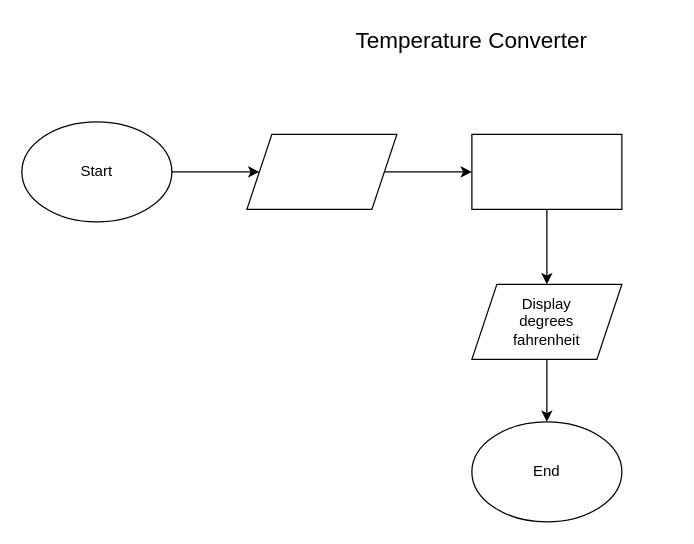
Some shapes in this 694 by 544 pixel diagram are drawn without their labels. The shapes that lost their labels are listed below. From the top down, each one's centre as x and y in pixels, then its label:
At (321,171): "Input degrees celsius".
At (546,171): "Multiply celsius temp by 9/5 and then add 32 to get fahrenheit equivalent".
